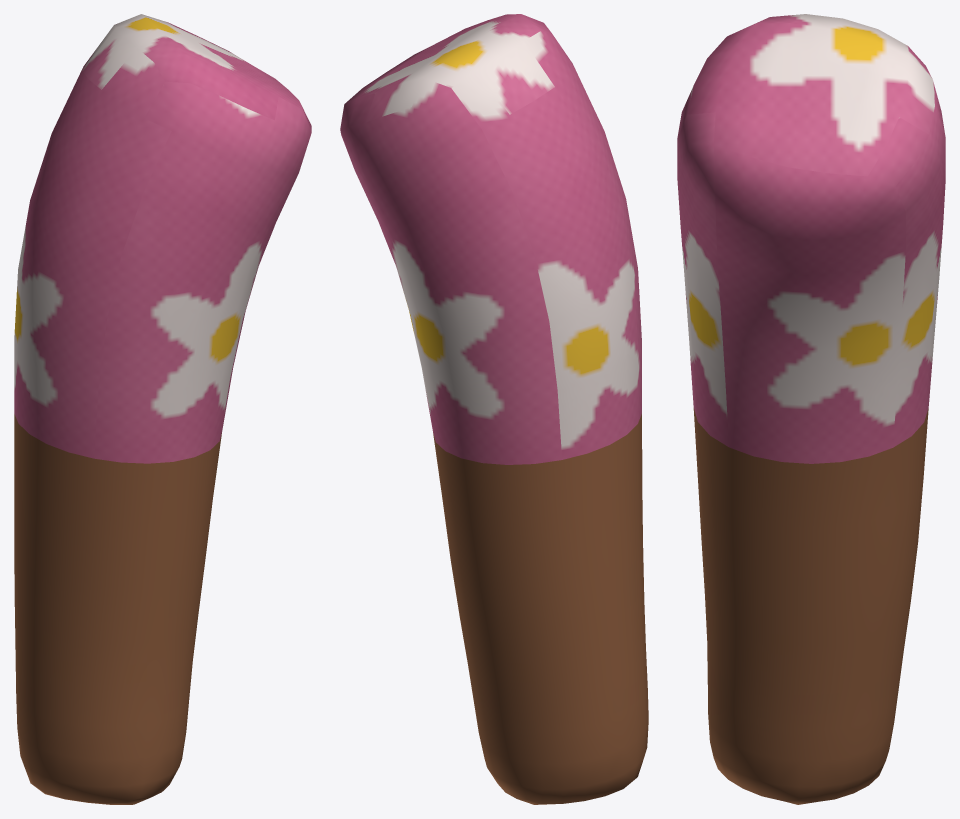
The model's file is brazoder.obj.
3 renders of one model, left to right at view 1: azimuth 30°, elevation 25°; view 2: azimuth 150°, elevation 25°; view 3: azimuth 270°, elevation 25°, orthographic. The views are drawn at different scales.
Parts seen in each view (by area): view 1: BrazoDer; view 2: BrazoDer; view 3: BrazoDer.
Boxes of the visible parts, x1,y1,x2,y2 form: BrazoDer: (14, 14, 311, 804); BrazoDer: (340, 14, 648, 804); BrazoDer: (677, 14, 945, 804).
Size of the model in its own units: 0.0793 by 0.2065 by 0.0637.
2 materials, 2 textured.
